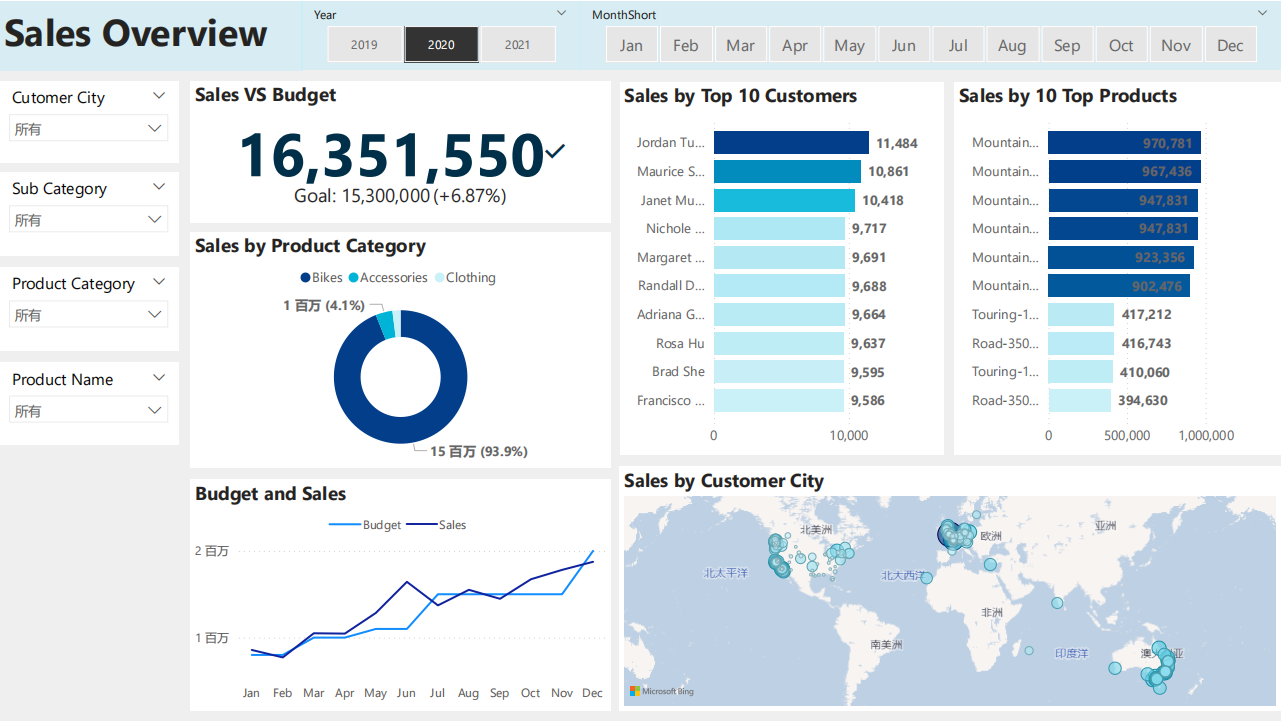

This screenshot's page, from the dashboard's own definition file:
{"tool":"powerbi","page":{"name":"Sales Overview","canvas":[1280,720],"ordinal":0},"visuals":[{"type":"textbox","box":[0,0,302.5,68.8],"z":0},{"type":"slicer","fields":{"Values":["Dim_Customer.Cutomer City"]},"box":[0,80,178.8,81.2],"z":1000},{"type":"slicer","fields":{"Values":["Dim_Product.Sub Category"]},"box":[0,171.2,178.8,82.5],"z":2000},{"type":"slicer","fields":{"Values":["Dim_Product.Product Category"]},"box":[0,266.2,178.8,82.5],"z":3000},{"type":"slicer","fields":{"Values":["Dim_Product.Product Name"]},"box":[0,361.2,178.8,81.2],"z":4000},{"type":"slicer","fields":{"Values":["Dim_Date.Year"]},"box":[302.3,0,277.4,68.4],"z":5000},{"type":"slicer","fields":{"Values":["Dim_Date.MonthShort"]},"box":[579.7,0,700.3,68.4],"z":6000},{"type":"donutChart","title":"Sales by Product Category","fields":{"Y":["Measure.Sales"],"Category":["Dim_Product.Product Category"]},"box":[191.1,231.1,420,234.4],"z":7000},{"type":"lineChart","title":"Budget and Sales","fields":{"Y":["Measure.Budget","Measure.Sales"],"Category":["Dim_Date.MonthShort"]},"box":[191.2,477.5,420,231.2],"z":8000},{"type":"clusteredBarChart","title":"Sales by Top 10 Customers","fields":{"Y":["Measure.Sales"],"Category":["Dim_Customer.Full Name"]},"box":[620,81.2,322.5,371.2],"z":9000},{"type":"clusteredBarChart","title":"Sales by 10 Top Products","fields":{"Y":["Measure.Sales"],"Category":["Dim_Product.Product Name"]},"box":[953.8,81.2,326.2,371.2],"z":10000},{"type":"map","title":"Sales by Customer City","fields":{"Category":["Dim_Customer.Cutomer City"],"Size":["Measure.Sales"]},"box":[620,465,660,243.8],"z":11000},{"type":"kpi","title":"Sales VS Budget","fields":{"Indicator":["Measure.Sales"],"Goal":["Measure.Budget"],"TrendLine":["Dim_Date.Year"]},"box":[191.1,80,420,141.1],"z":12000}]}

Visuals, with their boxes in screenshot pixels (x1, y1, x2, y2), scaled from the page's 1280x720 canvas onto the 1284x721 screenshot:
textbox: Rect(0, 0, 303, 69)
slicer - Dim_Customer.Cutomer City: Rect(0, 80, 179, 161)
slicer - Dim_Product.Sub Category: Rect(0, 171, 179, 254)
slicer - Dim_Product.Product Category: Rect(0, 267, 179, 349)
slicer - Dim_Product.Product Name: Rect(0, 362, 179, 443)
slicer - Dim_Date.Year: Rect(303, 0, 582, 68)
slicer - Dim_Date.MonthShort: Rect(582, 0, 1283, 68)
"Sales by Product Category" donutChart: Rect(192, 231, 613, 466)
"Budget and Sales" lineChart: Rect(192, 478, 613, 710)
"Sales by Top 10 Customers" clusteredBarChart: Rect(622, 81, 945, 453)
"Sales by 10 Top Products" clusteredBarChart: Rect(957, 81, 1283, 453)
"Sales by Customer City" map: Rect(622, 466, 1283, 710)
"Sales VS Budget" kpi: Rect(192, 80, 613, 221)
